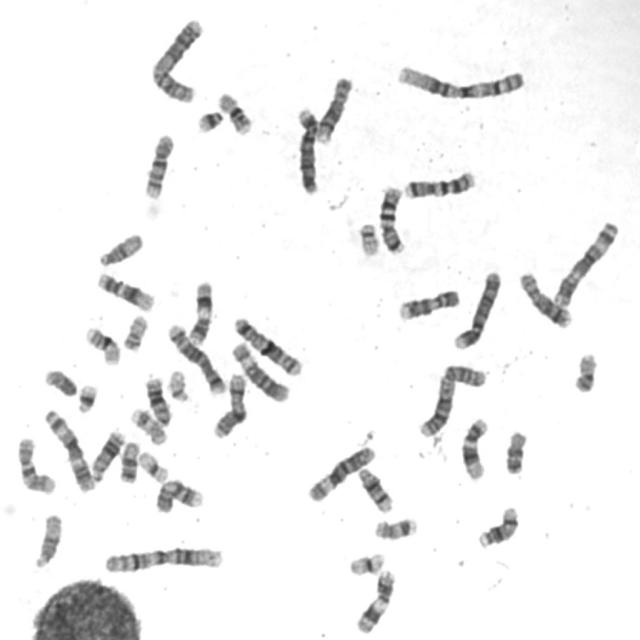A1: (393, 60, 528, 102), (99, 542, 226, 576)
A2: (414, 360, 488, 440), (147, 13, 206, 105)
A3: (548, 216, 621, 309), (40, 405, 96, 493)
B4: (450, 265, 503, 352), (293, 102, 321, 196)
B5: (228, 312, 304, 378), (164, 320, 227, 396)
C10: (13, 433, 57, 496), (140, 128, 176, 200)
C11: (352, 565, 397, 635), (184, 276, 215, 347)
C12: (92, 267, 157, 313), (457, 413, 490, 482)
C6: (304, 442, 377, 504), (228, 339, 291, 404)
C7: (400, 166, 478, 200), (376, 182, 408, 256)
C8: (515, 268, 574, 329), (312, 72, 354, 144)
C9: (394, 285, 462, 322), (152, 474, 205, 515)
D13: (87, 426, 127, 482), (142, 372, 173, 427)
D14: (474, 502, 521, 550), (354, 463, 395, 514)
D15: (29, 510, 64, 570), (94, 228, 144, 268)
E16: (214, 88, 254, 136), (81, 322, 122, 367)
E17: (126, 404, 169, 446), (370, 514, 419, 542)
E18: (501, 426, 529, 476), (115, 438, 141, 485)
F19: (134, 447, 171, 485), (345, 548, 387, 577)
F20: (118, 310, 150, 352), (570, 348, 599, 394)
G21: (192, 105, 225, 134), (73, 379, 99, 414)
G22: (165, 365, 192, 404), (355, 218, 381, 258)
X: (209, 370, 249, 440)
Y: (41, 364, 78, 398)
